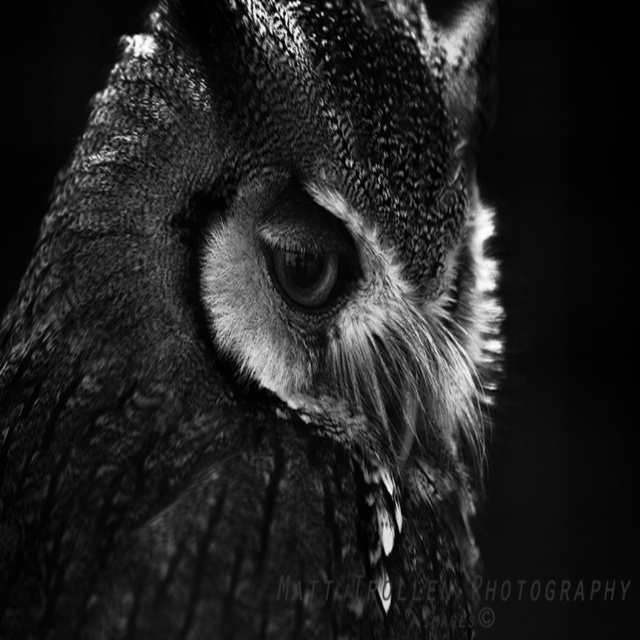Owl: (0, 0, 510, 639)
